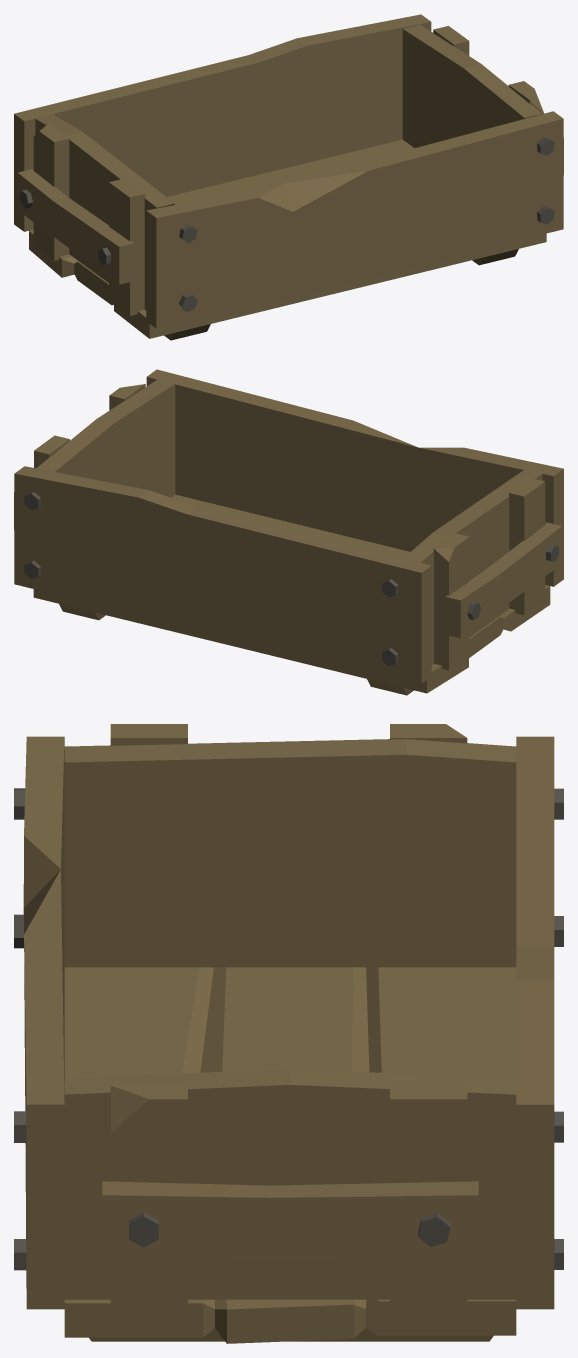
Rendered from Crate_5.fbx.
3 renders of one model, top to bottom at view 1: azimuth 30°, elevation 25°; view 2: azimuth 150°, elevation 25°; view 3: azimuth 270°, elevation 25°, orthographic. The views are drawn at different scales.
Parts seen in each view (by area): view 1: Crate_5; view 2: Crate_5; view 3: Crate_5.
Part boxes in pixels (<box>): Crate_5: <box>14,14,563,340</box>; Crate_5: <box>14,369,563,695</box>; Crate_5: <box>14,724,563,1343</box>.
Size of the model in its own units: 70.34 by 22.11 by 39.77.
